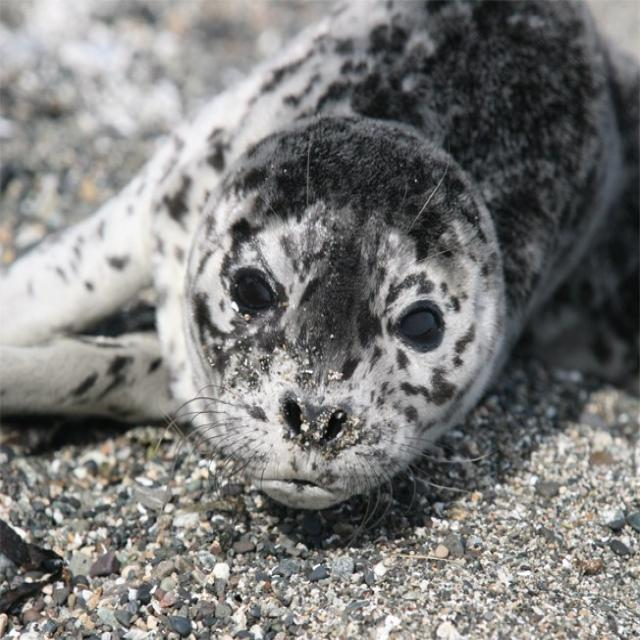WaterDog: (143, 8, 640, 512)
